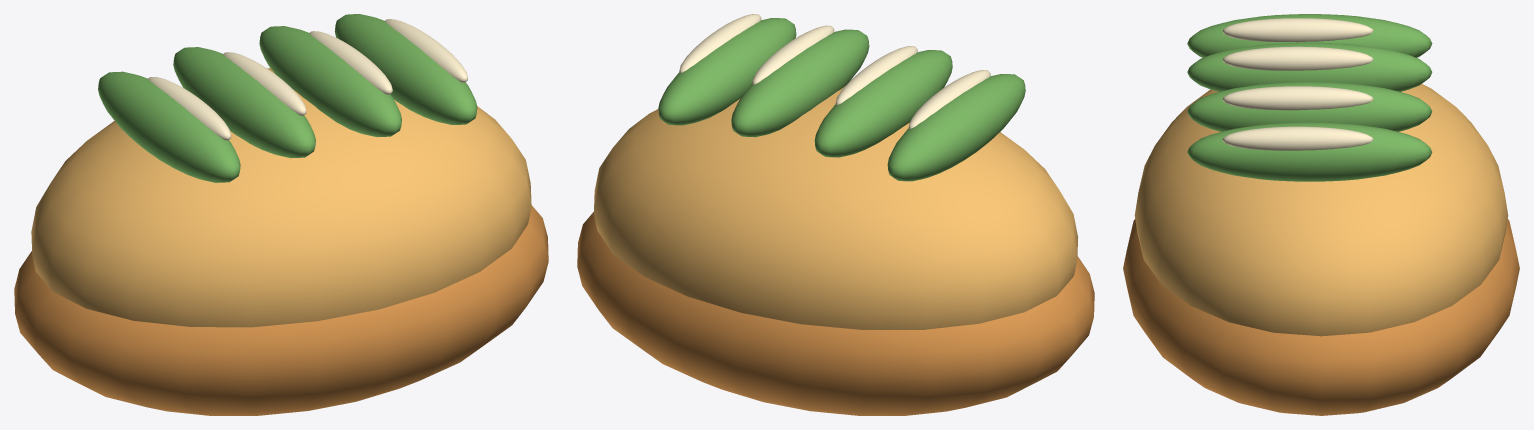
Rendered from bread_negi_unity.glb.
3 renders of one model, left to right at view 1: azimuth 30°, elevation 25°; view 2: azimuth 150°, elevation 25°; view 3: azimuth 270°, elevation 25°, orthographic. The views are drawn at different scales.
Visible parts, largest first — view 1: Scallion bun domed top, Scallion bun lower crust, Scallion strip, Scallion strip.002, Scallion strip.001, Scallion strip.003, Scallion center.003, Scallion center.002, Scallion center, Scallion center.001; view 2: Scallion bun domed top, Scallion bun lower crust, Scallion strip, Scallion strip.002, Scallion strip.001, Scallion strip.003, Scallion center.003, Scallion center.002, Scallion center, Scallion center.001; view 3: Scallion bun domed top, Scallion bun lower crust, Scallion strip.003, Scallion strip.002, Scallion strip.001, Scallion strip, Scallion center.003, Scallion center.002, Scallion center.001, Scallion center.
Part boxes in pixels (box(x1,y1,x2,y2)): Scallion bun domed top: box(31, 68, 531, 327); Scallion bun lower crust: box(14, 205, 548, 415); Scallion strip: box(98, 71, 240, 182); Scallion strip.002: box(259, 26, 401, 137); Scallion strip.001: box(173, 47, 315, 158); Scallion strip.003: box(334, 14, 477, 124); Scallion center.003: box(384, 19, 468, 82); Scallion center.002: box(309, 31, 392, 94); Scallion center: box(148, 77, 231, 140); Scallion center.001: box(223, 52, 306, 115); Scallion bun domed top: box(594, 80, 1078, 329); Scallion bun lower crust: box(577, 212, 1094, 415); Scallion strip: box(887, 74, 1025, 181); Scallion strip.002: box(731, 29, 869, 137); Scallion strip.001: box(814, 50, 952, 157); Scallion strip.003: box(658, 18, 796, 125); Scallion center.003: box(679, 14, 761, 72); Scallion center.002: box(752, 25, 834, 84); Scallion center: box(908, 70, 990, 128); Scallion center.001: box(835, 46, 917, 104); Scallion bun domed top: box(1134, 84, 1508, 336); Scallion bun lower crust: box(1123, 219, 1519, 415); Scallion strip.003: box(1187, 122, 1432, 181); Scallion strip.002: box(1187, 82, 1432, 131); Scallion strip.001: box(1187, 42, 1432, 91); Scallion strip: box(1187, 14, 1432, 57); Scallion center.003: box(1222, 126, 1373, 150); Scallion center.002: box(1222, 86, 1373, 110); Scallion center.001: box(1222, 46, 1373, 70); Scallion center: box(1222, 18, 1373, 42).
Size of the model in its own units: 0.92 by 0.5706 by 0.68.
